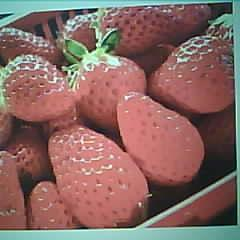straw-ripe: (48, 128, 148, 229), (148, 36, 234, 114)
